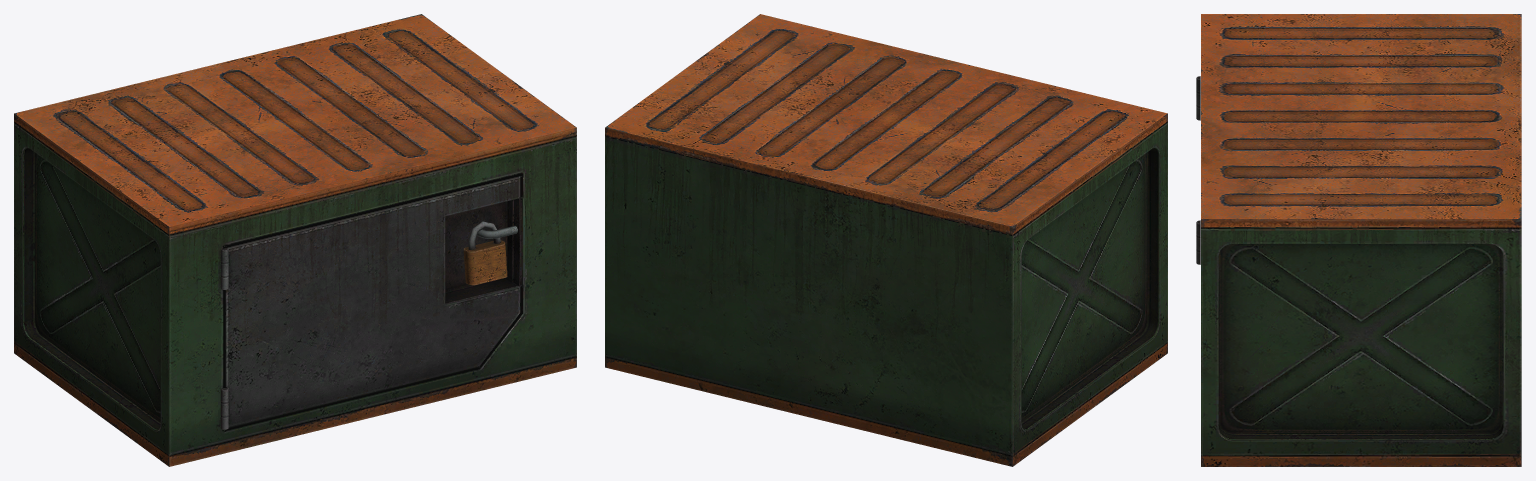
File: box_strong_small.dae
The picture shows the model from 3 angles, left to right: view 1: azimuth 30°, elevation 25°; view 2: azimuth 150°, elevation 25°; view 3: azimuth 270°, elevation 25°; orthographic projection. The views are drawn at different scales.
Parts seen in each view (by area): view 1: polymsh2; view 2: polymsh2; view 3: polymsh2.
Part boxes in pixels (x1=…): polymsh2: x1=14, y1=14, x2=576, y2=466; polymsh2: x1=605, y1=14, x2=1167, y2=466; polymsh2: x1=1196, y1=14, x2=1521, y2=466.
Size of the model in its own units: 39.97 by 22.48 by 26.76.
